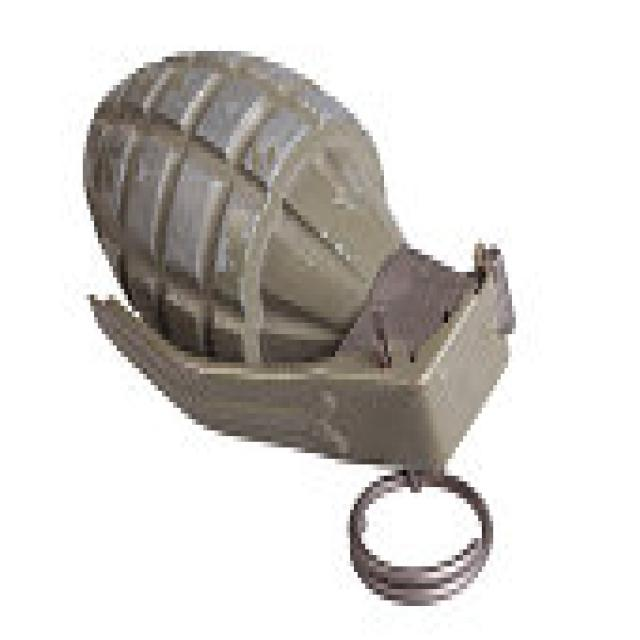grenade: (61, 39, 533, 620)
